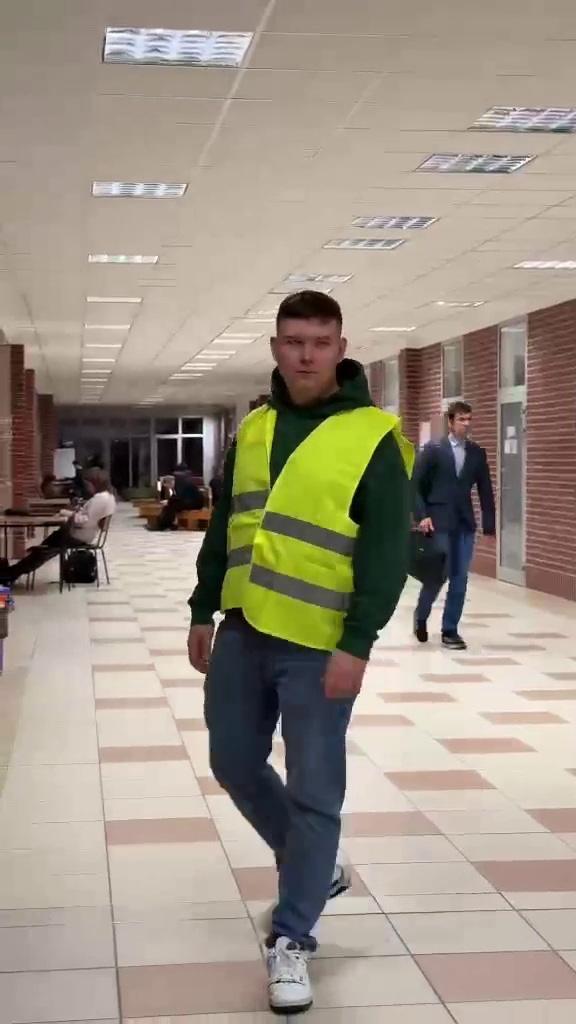no vest: (410, 389, 498, 667), (13, 459, 112, 595)
vest: (184, 286, 410, 1014)
